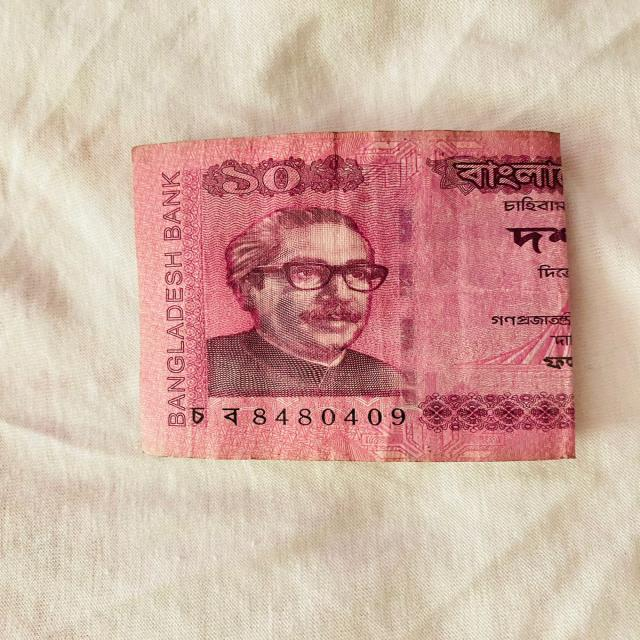Taka: (136, 132, 569, 466)
